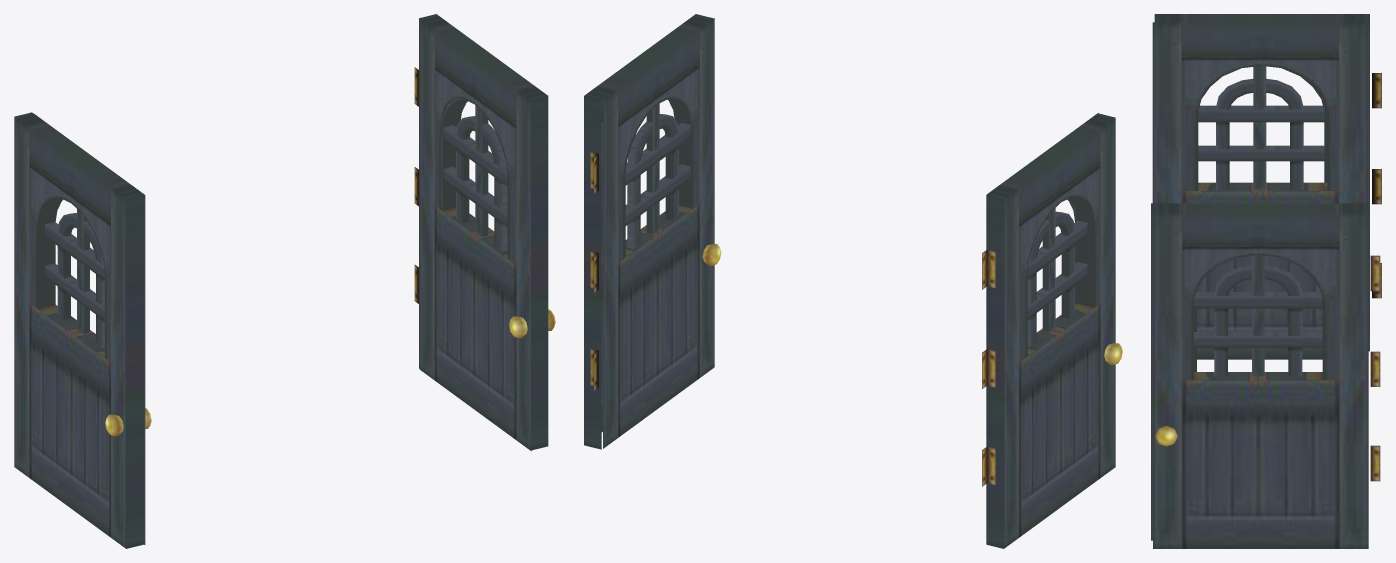
File: starterIslandHouseDoors.glb
3 renders of one model, left to right at view 1: azimuth 30°, elevation 25°; view 2: azimuth 150°, elevation 25°; view 3: azimuth 270°, elevation 25°, orthographic. The views are drawn at different scales.
Visible parts, largest first — view 1: f0102r0101_door2_OptMesh_16_0_node.001, f0102r0101_door2_OptMesh_16_0_node; view 2: f0102r0101_door2_OptMesh_16_0_node, f0102r0101_door2_OptMesh_16_0_node.001; view 3: f0102r0101_door2_OptMesh_16_0_node.001, f0102r0101_door2_OptMesh_16_0_node.
Part boxes in pixels (x1,y1,x2,y2): f0102r0101_door2_OptMesh_16_0_node.001: [414, 14, 555, 451]; f0102r0101_door2_OptMesh_16_0_node: [14, 112, 151, 548]; f0102r0101_door2_OptMesh_16_0_node: [982, 113, 1122, 548]; f0102r0101_door2_OptMesh_16_0_node.001: [584, 14, 721, 449]; f0102r0101_door2_OptMesh_16_0_node.001: [1151, 203, 1380, 548]; f0102r0101_door2_OptMesh_16_0_node: [1152, 14, 1381, 359].
Size of the model in its own units: 2.63 by 1.99 by 1.23.
Materials: 1 (1 with a texture image).
